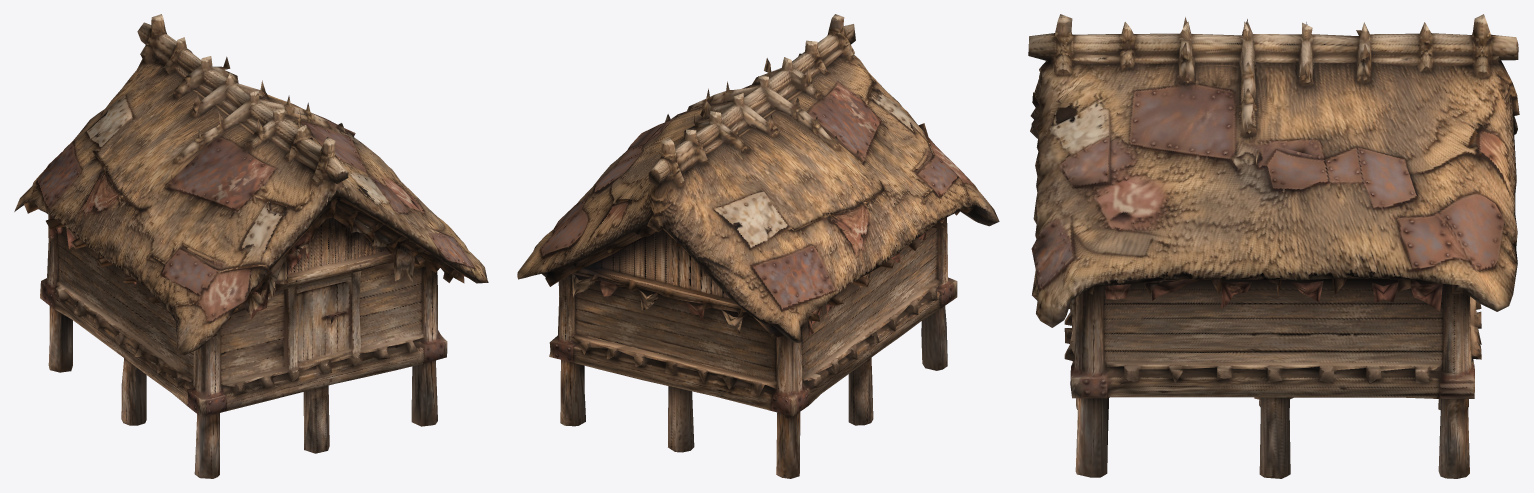
Rendered from storehouse.glb.
3 views of the same model, side by side, from view 1: azimuth 30°, elevation 25°; view 2: azimuth 150°, elevation 25°; view 3: azimuth 270°, elevation 25° (orthographic). The views are drawn at different scales.
Visible parts, largest first — view 1: knn_000000; view 2: knn_000000; view 3: knn_000000.
Boxes of the visible parts, x1,y1,x2,y2 form: knn_000000: (14,14,488,478); knn_000000: (517,14,999,478); knn_000000: (1028,14,1519,478).
Size of the model in its own units: 0.9048 by 0.8787 by 1.
1 material, 1 textured.
